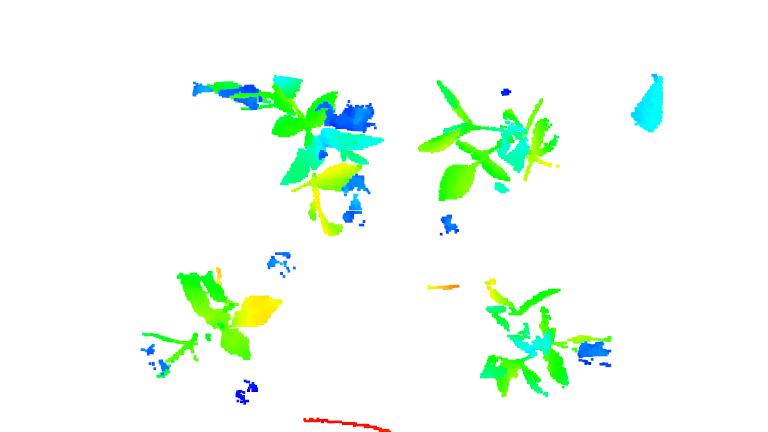mungbean: (193, 68, 378, 240), (466, 281, 620, 400), (421, 77, 567, 200), (142, 264, 285, 363)
